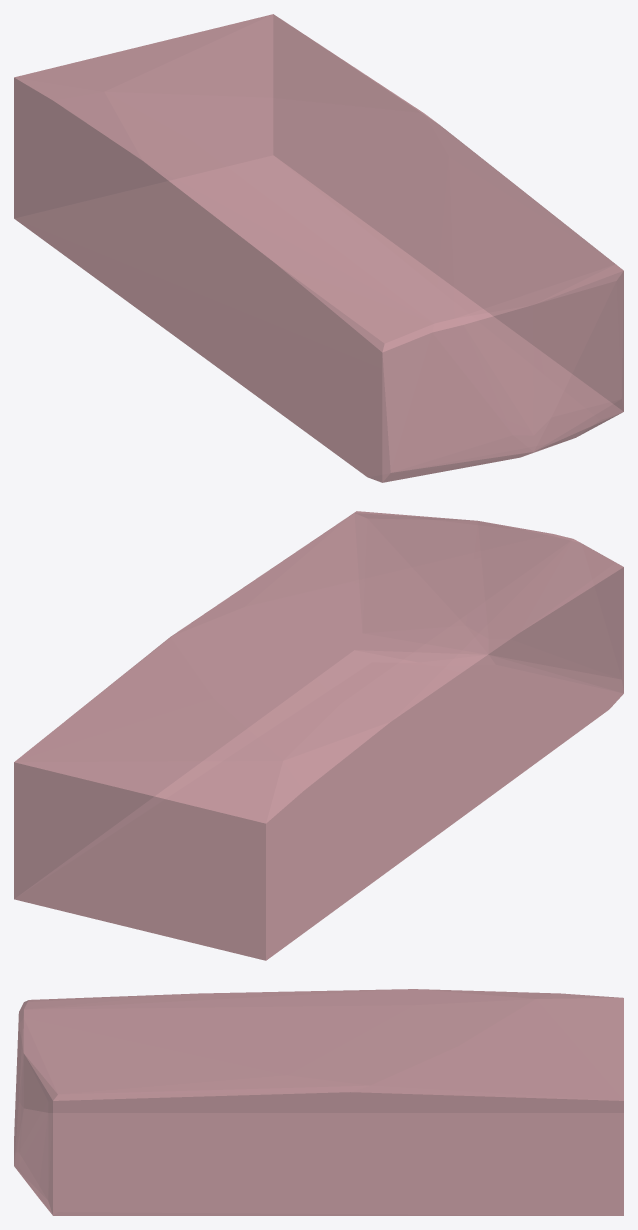
3 views of the same model, one above another, from view 1: azimuth 30°, elevation 25°; view 2: azimuth 150°, elevation 25°; view 3: azimuth 270°, elevation 25° (orthographic). The views are drawn at different scales.
Parts seen in each view (by area): view 1: Shape_IndexedFaceSet.004_Shape_IndexedFaceSet.15210; view 2: Shape_IndexedFaceSet.004_Shape_IndexedFaceSet.15210; view 3: Shape_IndexedFaceSet.004_Shape_IndexedFaceSet.15210.
Part boxes in pixels (bbox=[...]): Shape_IndexedFaceSet.004_Shape_IndexedFaceSet.15210: bbox=[14, 14, 623, 482]; Shape_IndexedFaceSet.004_Shape_IndexedFaceSet.15210: bbox=[14, 511, 623, 960]; Shape_IndexedFaceSet.004_Shape_IndexedFaceSet.15210: bbox=[14, 989, 623, 1215].
Size of the model in its own units: 0.0189 by 0.0114 by 0.0473.
